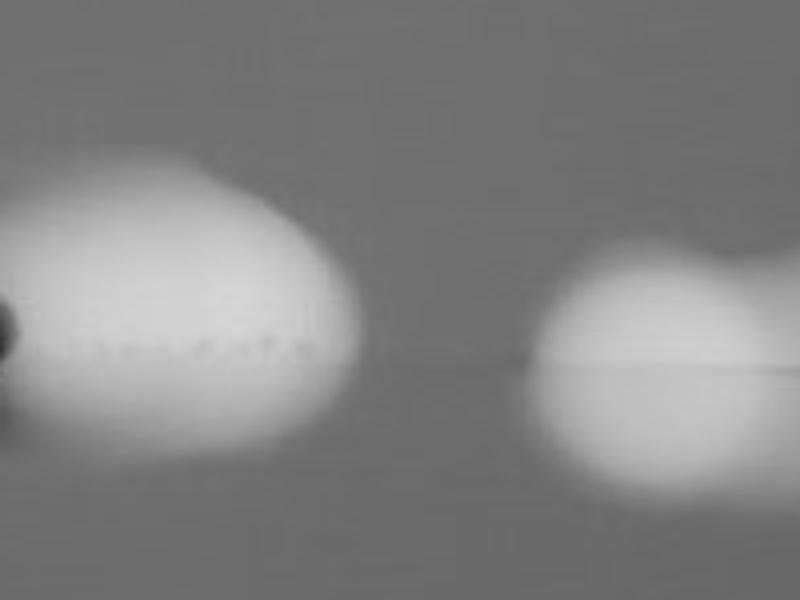defect: (1, 298, 20, 362)
